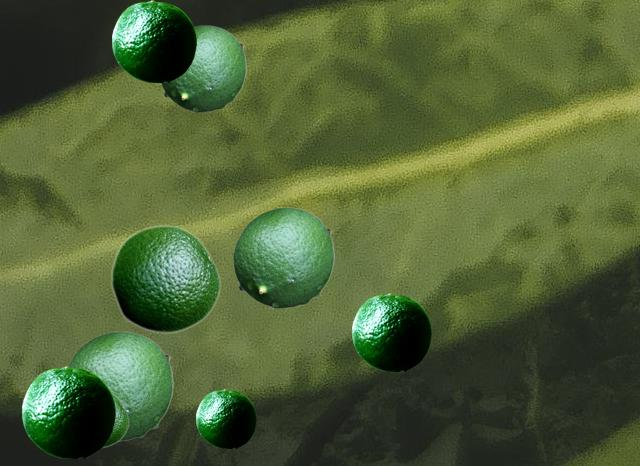calamansi: (110, 224, 220, 333), (67, 331, 172, 440), (233, 207, 333, 307), (22, 366, 114, 457), (160, 25, 245, 111), (112, 0, 195, 81), (352, 293, 430, 370), (196, 389, 255, 447), (104, 393, 128, 447)
